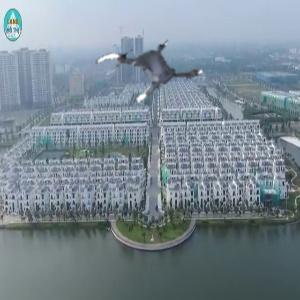drone: (98, 24, 194, 120)
